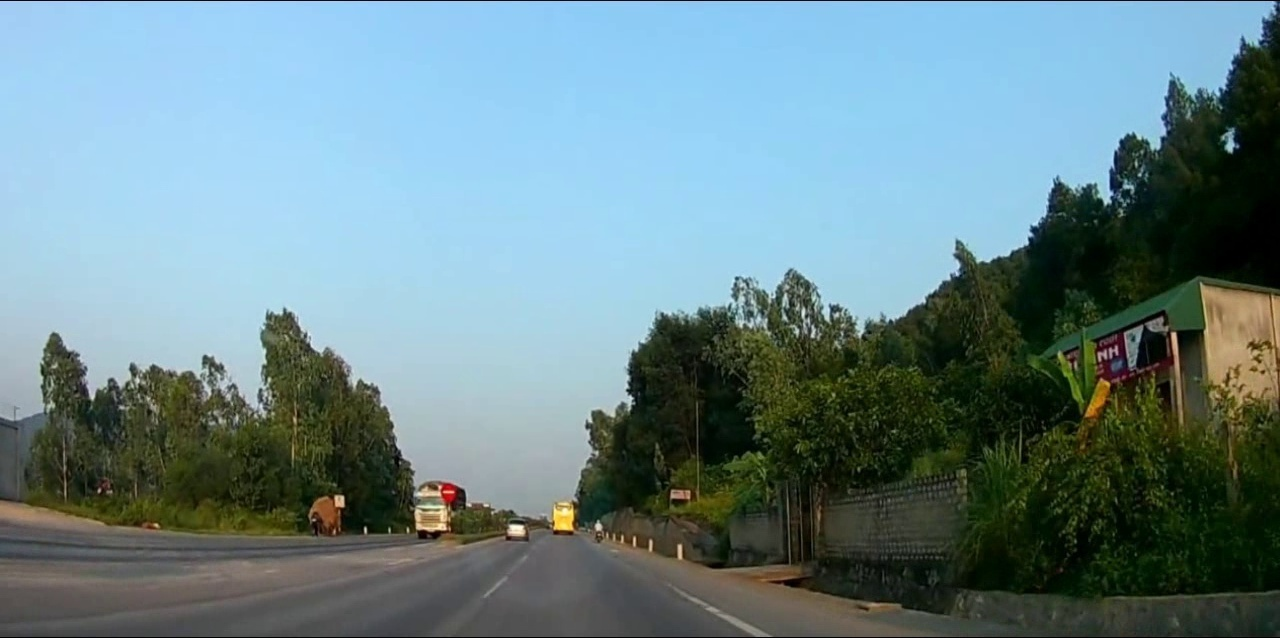Cam di nguoc chieu: (440, 483, 456, 501)
